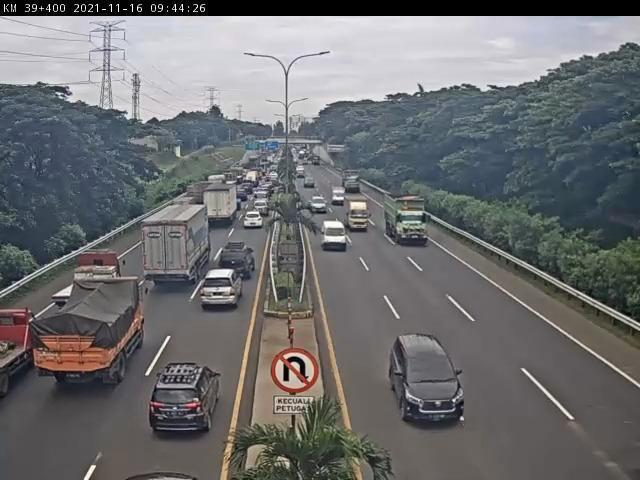car: (375, 329, 484, 434), (149, 359, 222, 437), (202, 266, 245, 312), (222, 239, 261, 283), (320, 219, 354, 259), (305, 194, 339, 220), (246, 210, 269, 233)
truck: (35, 275, 152, 396), (145, 206, 214, 289), (47, 251, 128, 312), (1, 305, 51, 398), (386, 200, 437, 251), (203, 183, 240, 229), (343, 199, 372, 233)
